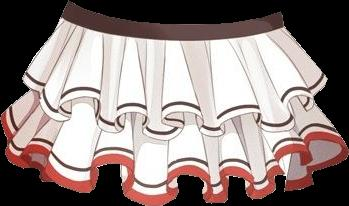Hemline: (0, 115, 347, 205), (21, 76, 328, 139)
Waistline: (60, 16, 284, 41), (67, 0, 282, 26)
